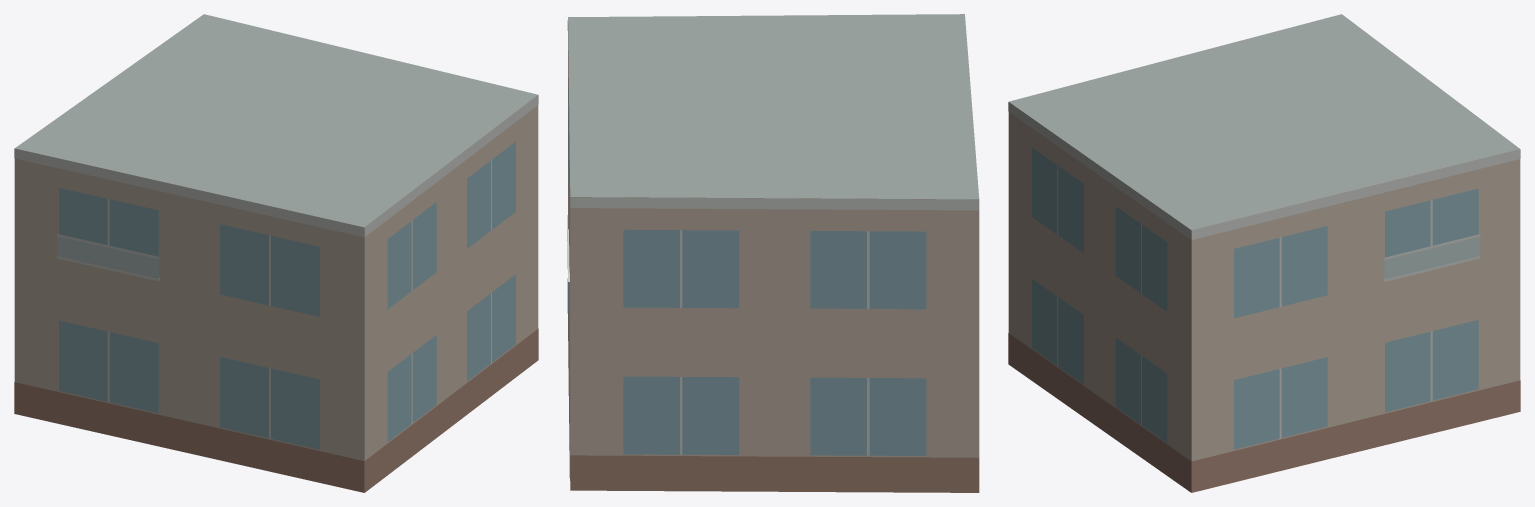
Rendered from survey-upis-32685490.glb.
3 views of the same model, side by side, from view 1: azimuth 30°, elevation 25°; view 2: azimuth 150°, elevation 25°; view 3: azimuth 270°, elevation 25° (orthographic). The views are drawn at different scales.
Parts seen in each view (by area): view 1: survey-upis-32685490.tmp; view 2: survey-upis-32685490.tmp; view 3: survey-upis-32685490.tmp.
Boxes of the visible parts, x1=… form: survey-upis-32685490.tmp: x1=14, y1=14, x2=538, y2=492; survey-upis-32685490.tmp: x1=567, y1=14, x2=979, y2=492; survey-upis-32685490.tmp: x1=1008, y1=14, x2=1520, y2=492.
Size of the model in its own units: 11.49 by 6.5 by 11.5.
